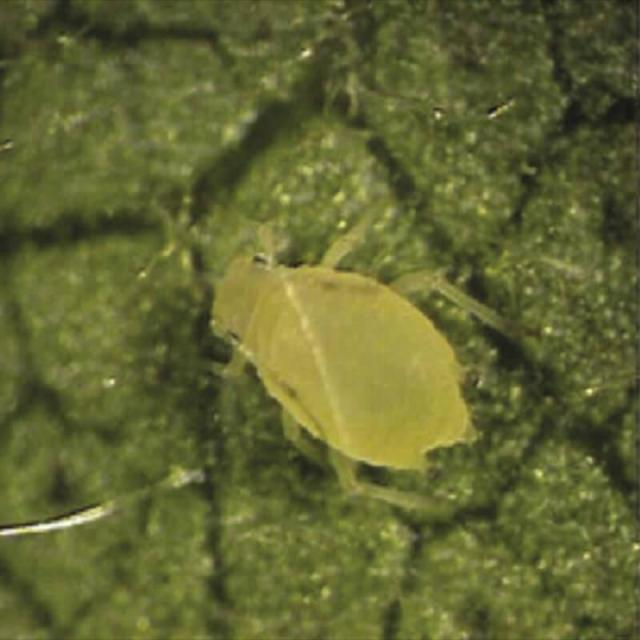Aphids: (144, 191, 573, 531)
